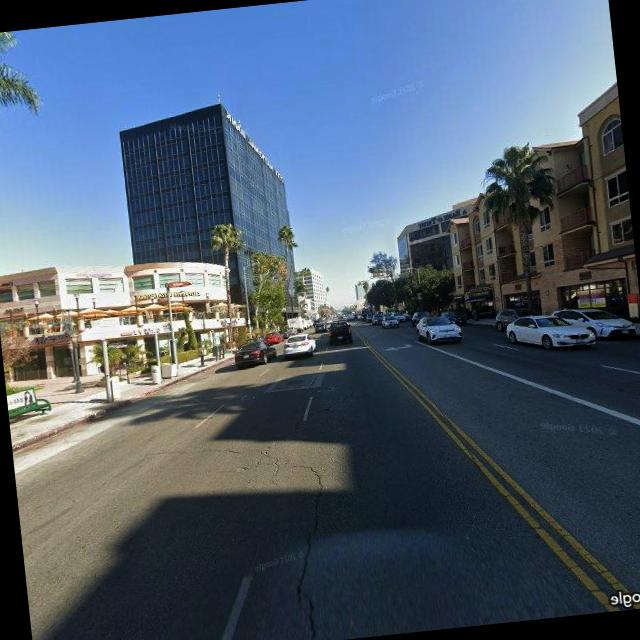pothole: (267, 444, 346, 640)
